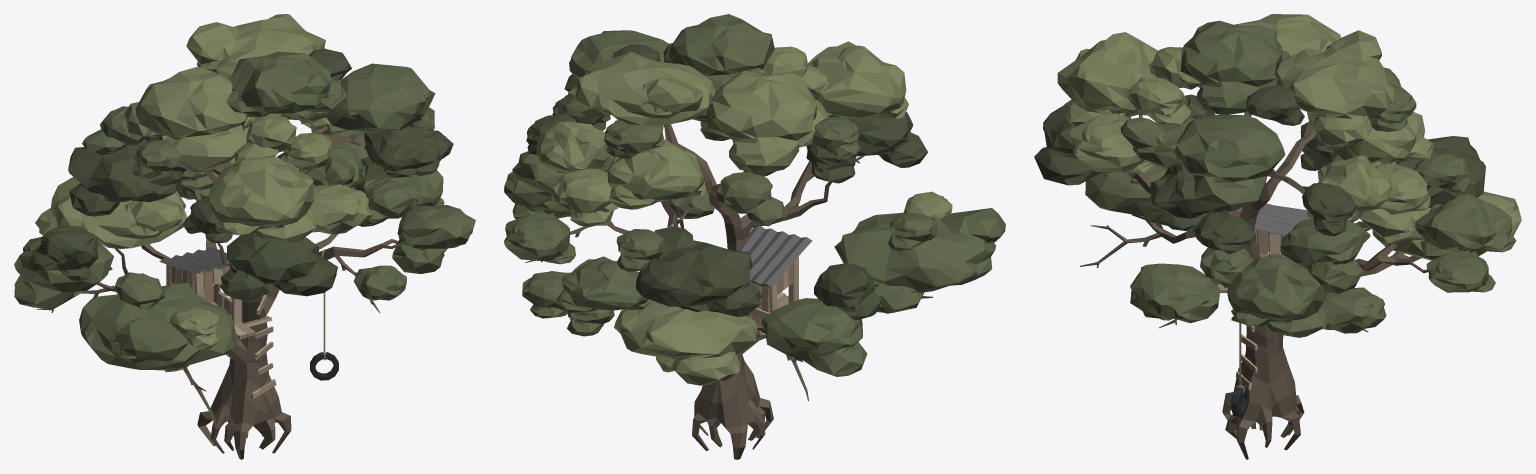
The model's file is tree_large.glb.
3 views of the same model, side by side, from view 1: azimuth 30°, elevation 25°; view 2: azimuth 150°, elevation 25°; view 3: azimuth 270°, elevation 25° (orthographic). The views are drawn at different scales.
Parts seen in each view (by area): view 1: SM_Env_Tree_House_01; view 2: SM_Env_Tree_House_01; view 3: SM_Env_Tree_House_01.
Part boxes in pixels (bbox=[...]): SM_Env_Tree_House_01: bbox=[14, 14, 475, 459]; SM_Env_Tree_House_01: bbox=[504, 14, 1005, 459]; SM_Env_Tree_House_01: bbox=[1034, 14, 1521, 459].
Bounding box in the file's own units: 7.33 × 6.97 × 7.19.
Materials: 1 (1 with a texture image).
